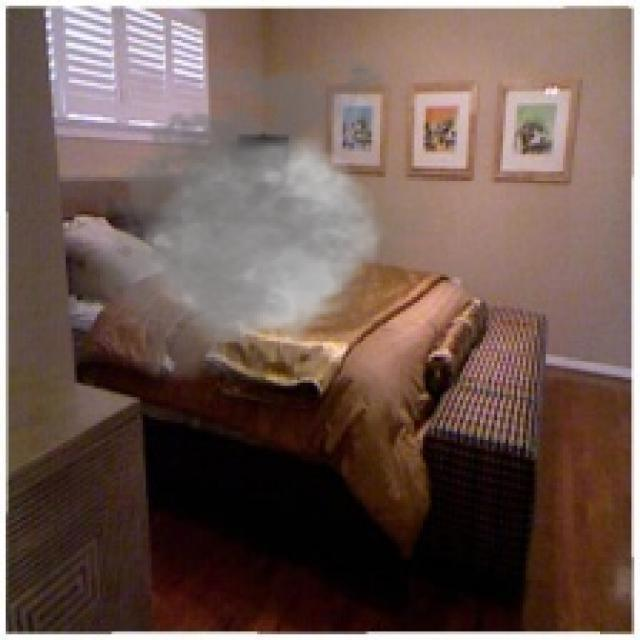Smoke: (71, 42, 448, 394)
